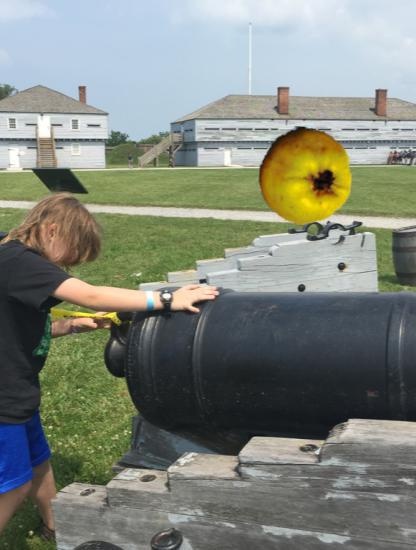Quince: (256, 127, 354, 225)
